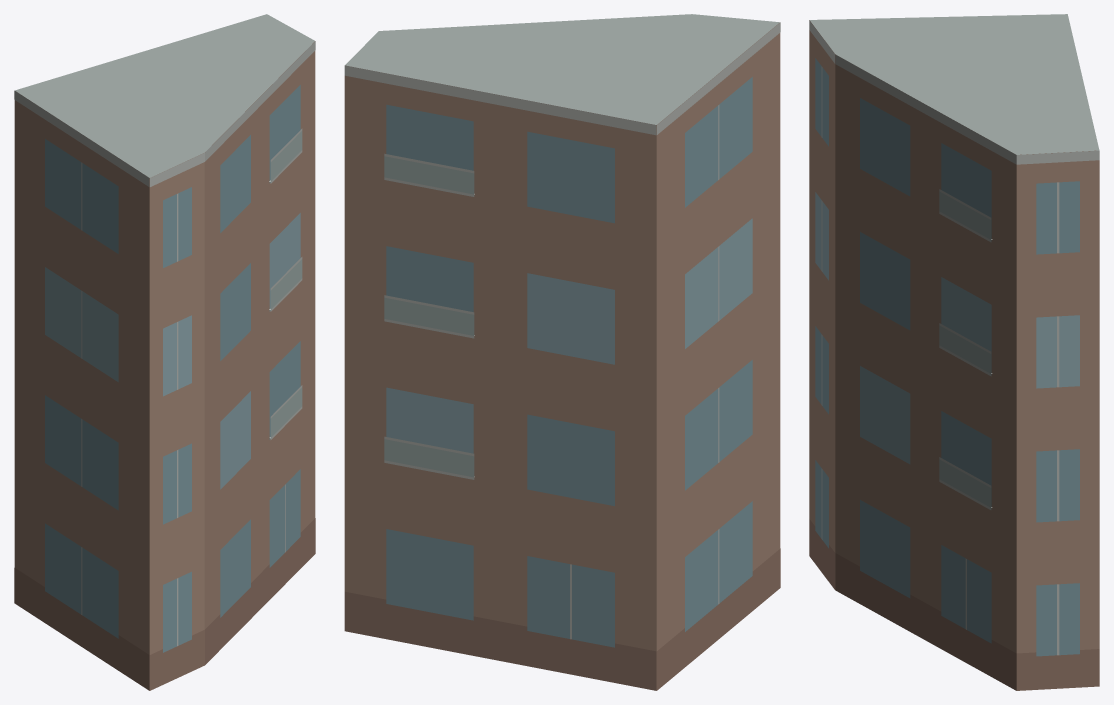
Rendered from survey-upis-32487661.glb.
The picture shows the model from 3 angles, left to right: view 1: azimuth 30°, elevation 25°; view 2: azimuth 150°, elevation 25°; view 3: azimuth 270°, elevation 25°; orthographic projection. The views are drawn at different scales.
Parts seen in each view (by area): view 1: survey-upis-32487661.tmp; view 2: survey-upis-32487661.tmp; view 3: survey-upis-32487661.tmp.
Part boxes in pixels (<box>): survey-upis-32487661.tmp: <box>14,14,315,690</box>; survey-upis-32487661.tmp: <box>344,14,780,690</box>; survey-upis-32487661.tmp: <box>809,14,1099,690</box>.
Bounding box in the file's own units: 7.57 × 13.4 × 6.59.
